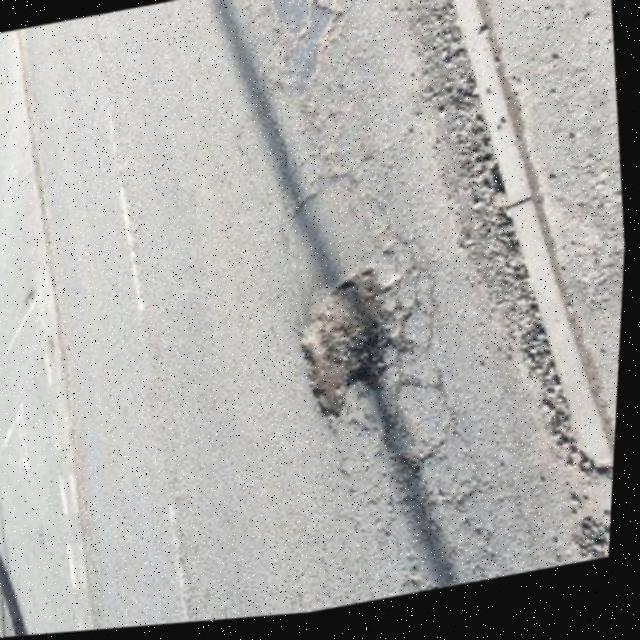Pothole: (287, 259, 423, 436)
